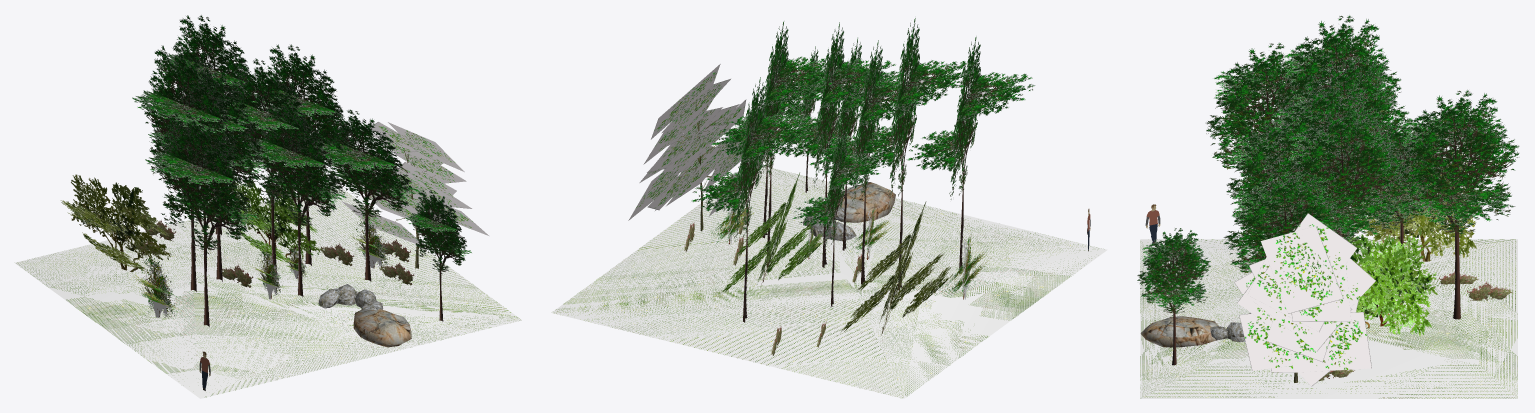
File: forest_complex.dae
The picture shows the model from 3 angles, left to right: view 1: azimuth 30°, elevation 25°; view 2: azimuth 150°, elevation 25°; view 3: azimuth 270°, elevation 25°; orthographic projection. The views are drawn at different scales.
Visible parts, largest first — view 1: TallTree_1_ (×17), SketchUp (×2), image_9, image_10 (×6), image_4, _2arb (×3), Boulder2b, FF_Model_ID5558_1_rockgroup01a, image_8, image_7, group_1; view 2: SketchUp (×2), TallTree_1_ (×23), image_10 (×8), Boulder2b, image_9, FF_Model_ID5558_1_rockgroup01a, image_4, image_7, image_8, image_5, image_6, image_2 (+3 smaller); view 3: TallTree_1_ (×21), SketchUp, image_10 (×10), image_4, image_1, Boulder2b, image_0, image_6, image_9, image_5, image_3, Acaia_Flower (+1 smaller).
Part boxes in pixels (left/top/right/bottom): TallTree_1_ (×17): left=132, top=15, right=466, bottom=327; SketchUp (×2): left=15, top=184, right=521, bottom=398; image_9: left=67, top=174, right=171, bottom=272; image_10 (×6): left=342, top=122, right=488, bottom=247; image_4: left=231, top=176, right=320, bottom=259; _2arb (×3): left=138, top=219, right=389, bottom=318; Boulder2b: left=353, top=309, right=411, bottom=347; FF_Model_ID5558_1_rockgroup01a: left=318, top=284, right=383, bottom=309; image_8: left=60, top=200, right=118, bottom=233; image_7: left=82, top=232, right=146, bottom=271; group_1: left=145, top=259, right=172, bottom=317; SketchUp (×2): left=551, top=166, right=1107, bottom=398; TallTree_1_ (×23): left=691, top=18, right=1035, bottom=322; image_10 (×8): left=628, top=64, right=730, bottom=220; Boulder2b: left=837, top=182, right=895, bottom=222; image_9: left=879, top=201, right=926, bottom=335; FF_Model_ID5558_1_rockgroup01a: left=802, top=207, right=856, bottom=241; image_4: left=757, top=172, right=799, bottom=287; image_7: left=902, top=266, right=952, bottom=317; image_8: left=889, top=253, right=943, bottom=310; image_5: left=857, top=233, right=911, bottom=290; image_6: left=841, top=274, right=895, bottom=331; image_2: left=778, top=232, right=825, bottom=280; TallTree_1_ (×21): left=1137, top=15, right=1519, bottom=365; SketchUp: left=1140, top=239, right=1517, bottom=398; image_10 (×10): left=1237, top=213, right=1375, bottom=372; image_4: left=1347, top=234, right=1437, bottom=328; image_1: left=1365, top=278, right=1431, bottom=335; Boulder2b: left=1140, top=316, right=1218, bottom=347; image_0: left=1356, top=260, right=1395, bottom=317; image_6: left=1408, top=202, right=1476, bottom=257; image_9: left=1354, top=149, right=1482, bottom=261; image_5: left=1371, top=182, right=1437, bottom=238; image_3: left=1362, top=239, right=1427, bottom=292; Acaia_Flower: left=1467, top=281, right=1512, bottom=300.
Size of the model in its own units: 642 by 611 by 509.
26 materials, 17 textured.
